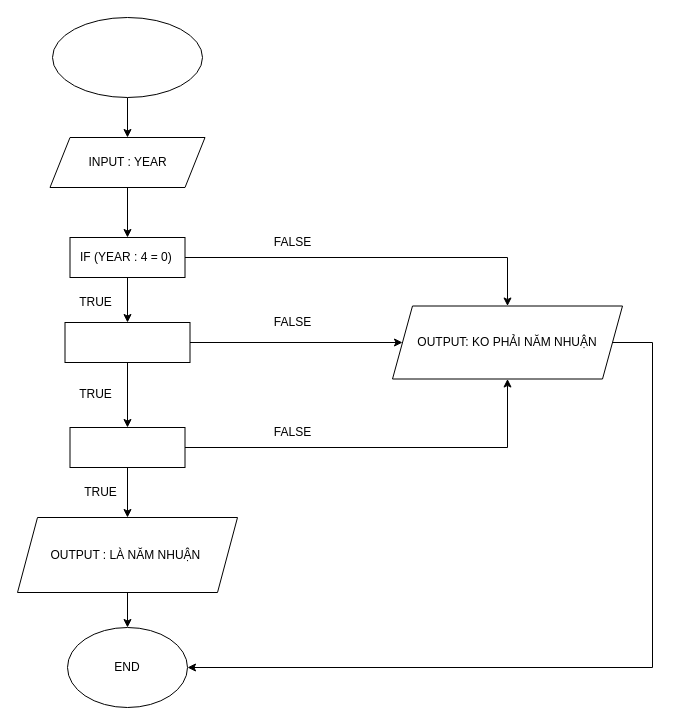
Image size: 678x725. Some labels were removed from this diagram. Each missing label, with the centre of its shape:
"BEGIN" belongs at pixel 127 57.
"IF (YEAR : 400 =0 )" belongs at pixel 127 447.
"IF (YEAR :100 = 0)" belongs at pixel 127 342.
